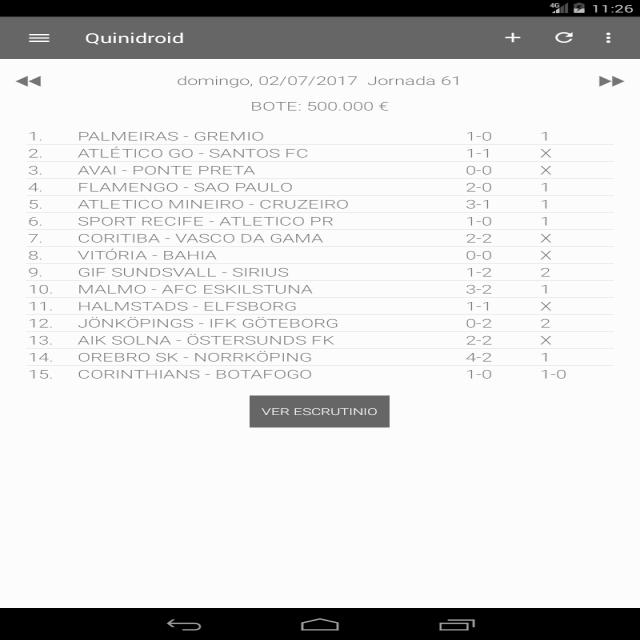Button: (244, 392, 400, 432)
ImageButton: (8, 71, 54, 89), (591, 72, 630, 92), (494, 30, 530, 50), (24, 29, 57, 49), (595, 27, 617, 48), (550, 30, 579, 45)
TextView: (72, 264, 338, 380), (176, 74, 470, 92), (74, 194, 354, 210), (464, 266, 498, 377), (532, 128, 559, 260), (75, 164, 266, 178), (247, 98, 395, 115), (82, 28, 191, 50)
